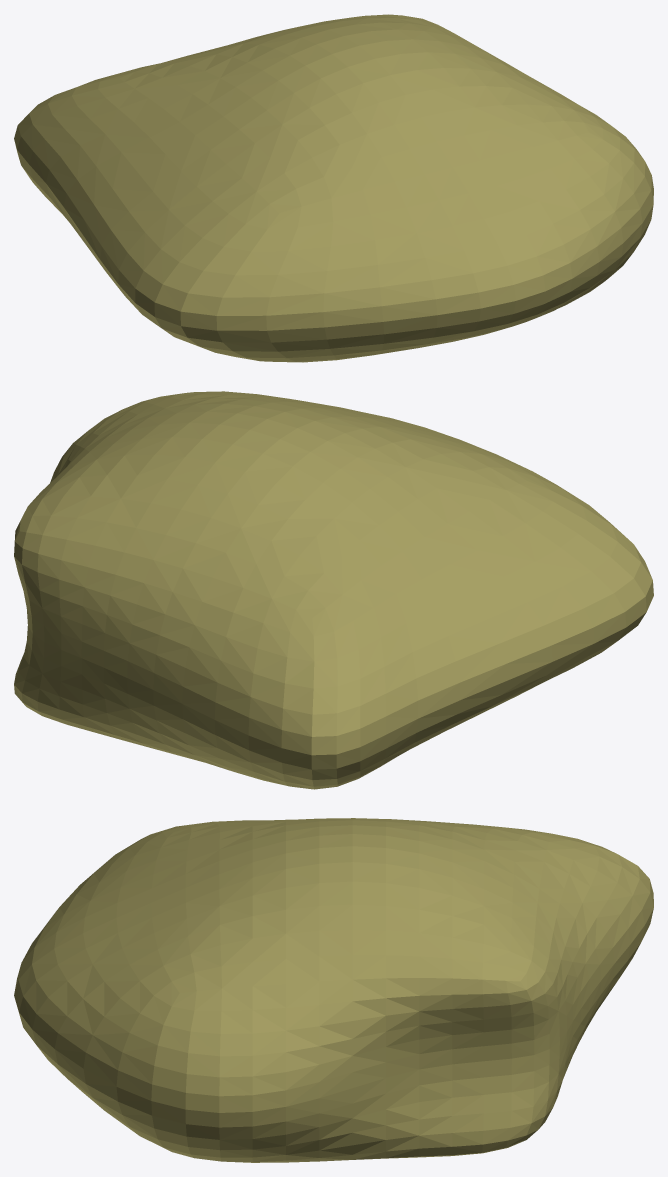
File: TrashOnTable.fbx
3 views of the same model, one above another, from view 1: azimuth 30°, elevation 25°; view 2: azimuth 150°, elevation 25°; view 3: azimuth 270°, elevation 25° (orthographic). The views are drawn at different scales.
Visible parts, largest first — view 1: Cube; view 2: Cube; view 3: Cube.
Part boxes in pixels (x1=…): Cube: x1=14, y1=14, x2=653, y2=362; Cube: x1=14, y1=391, x2=653, y2=789; Cube: x1=14, y1=818, x2=653, y2=1162.
Size of the model in its own units: 312 by 145 by 320.
